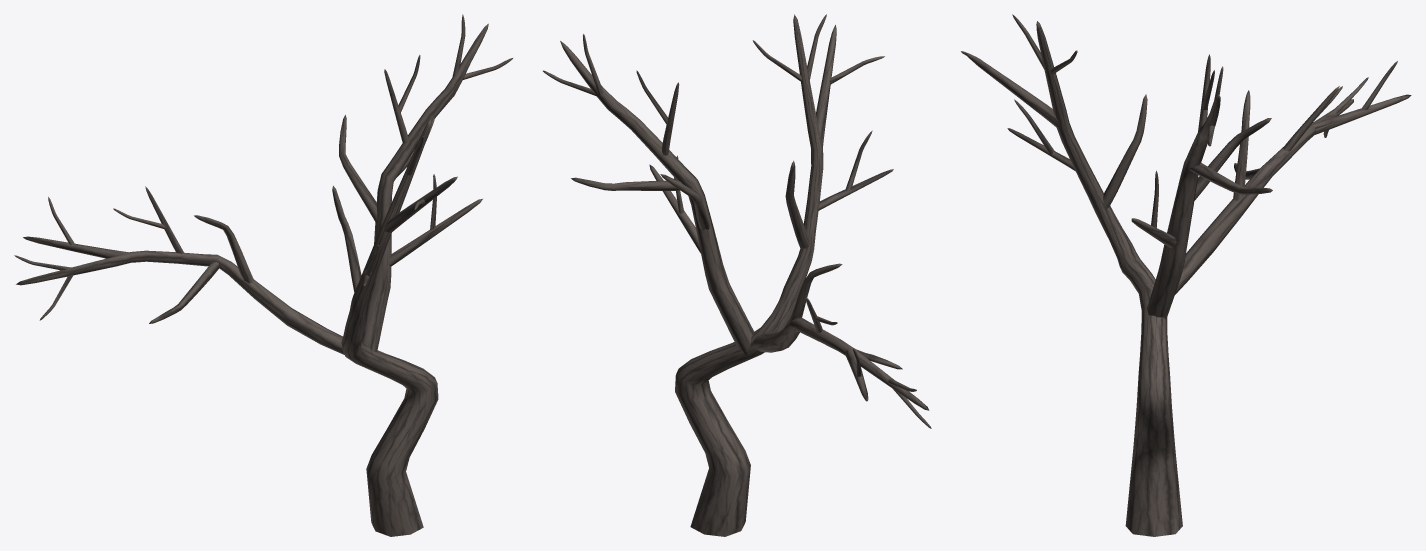
File: DeadTree_7.glb
The picture shows the model from 3 angles, left to right: view 1: azimuth 30°, elevation 25°; view 2: azimuth 150°, elevation 25°; view 3: azimuth 270°, elevation 25°; orthographic projection. The views are drawn at different scales.
Visible parts, largest first — view 1: DeadTree_7; view 2: DeadTree_7; view 3: DeadTree_7.
Part boxes in pixels (x1,y1,x2,y2): DeadTree_7: [14, 14, 512, 536]; DeadTree_7: [543, 14, 931, 536]; DeadTree_7: [961, 14, 1411, 536].
Size of the model in its own units: 6.14 by 6.31 by 5.03.
Materials: 1 (1 with a texture image).
